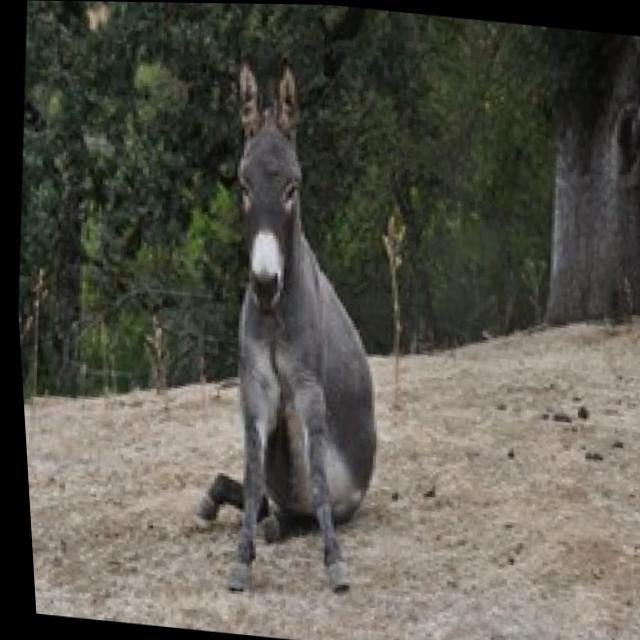Donkey: (162, 51, 414, 604)
